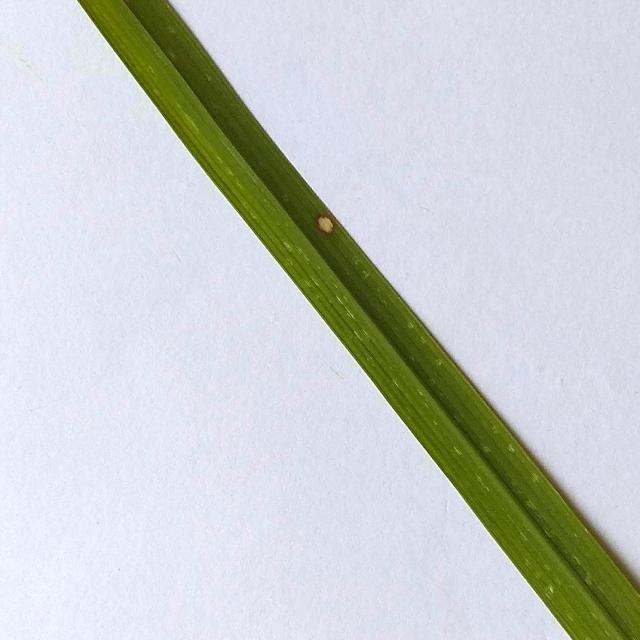Blast: (312, 214, 334, 236)
